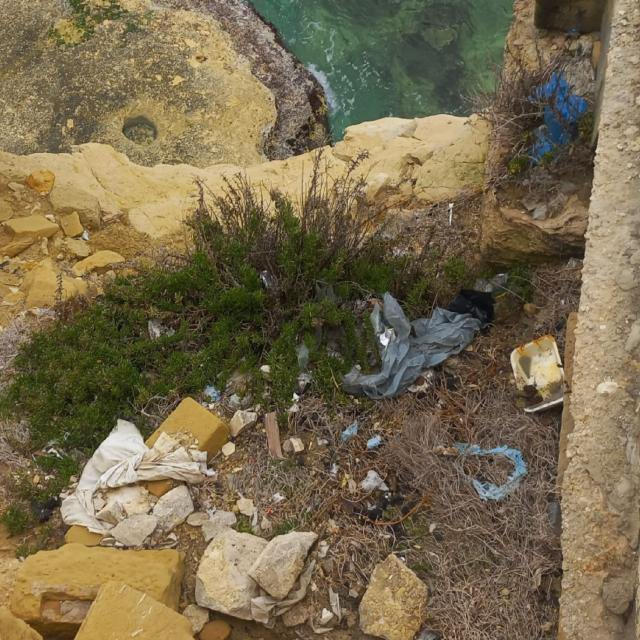Bottle: (546, 498, 561, 538)
Bottle cap: (566, 29, 580, 33)
Other litter: (509, 333, 565, 413), (359, 468, 420, 537), (340, 420, 358, 442), (409, 628, 440, 640), (267, 492, 284, 506), (367, 434, 382, 448), (448, 202, 454, 226)
Other plastic: (301, 272, 508, 404), (60, 419, 215, 538), (525, 72, 590, 166), (250, 557, 315, 631), (453, 440, 529, 500), (307, 585, 342, 634), (295, 341, 317, 393), (149, 318, 179, 342), (314, 281, 335, 302), (201, 384, 222, 403), (257, 269, 274, 287), (84, 229, 89, 240)
